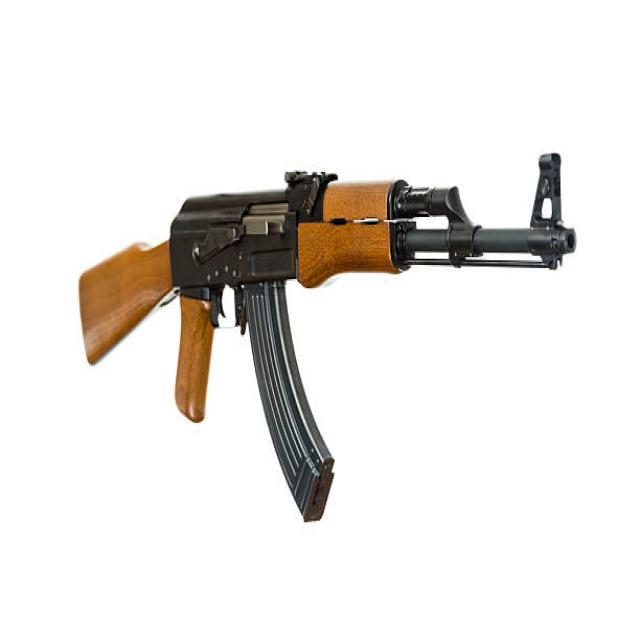rifle: (77, 135, 582, 527)
